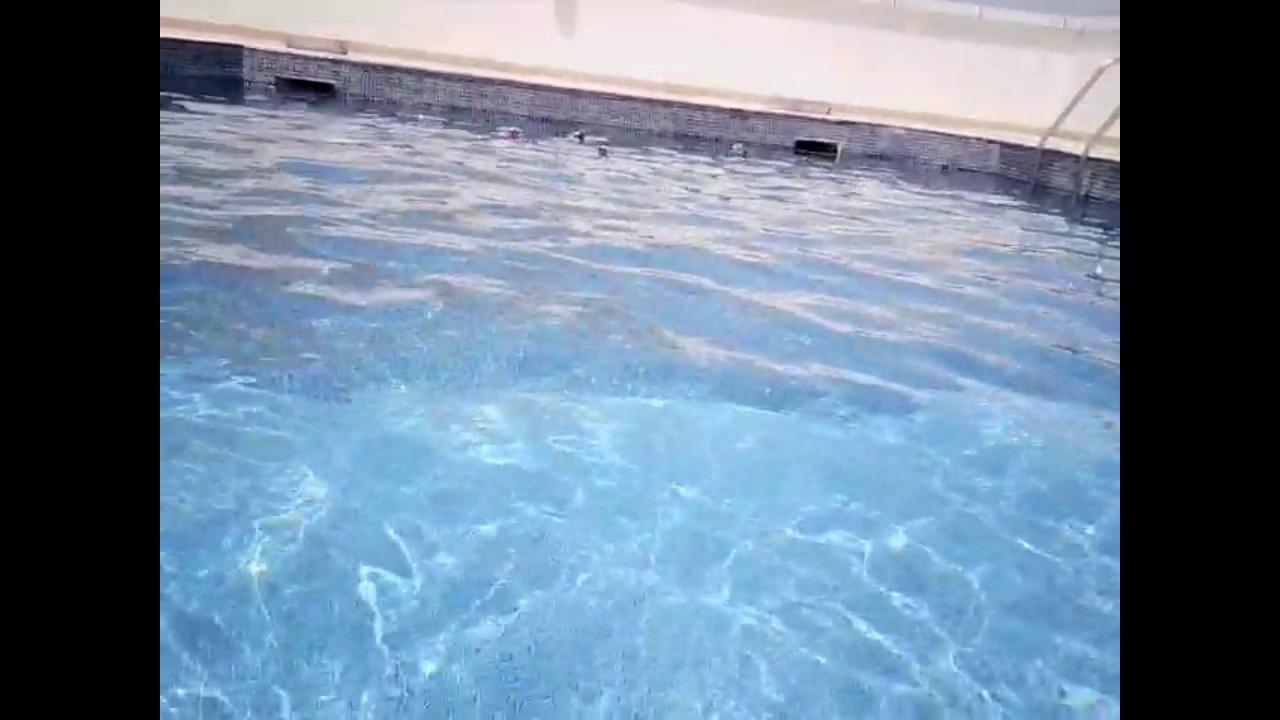debris: (498, 120, 529, 139), (726, 140, 753, 161), (570, 127, 590, 144), (594, 144, 610, 163)
